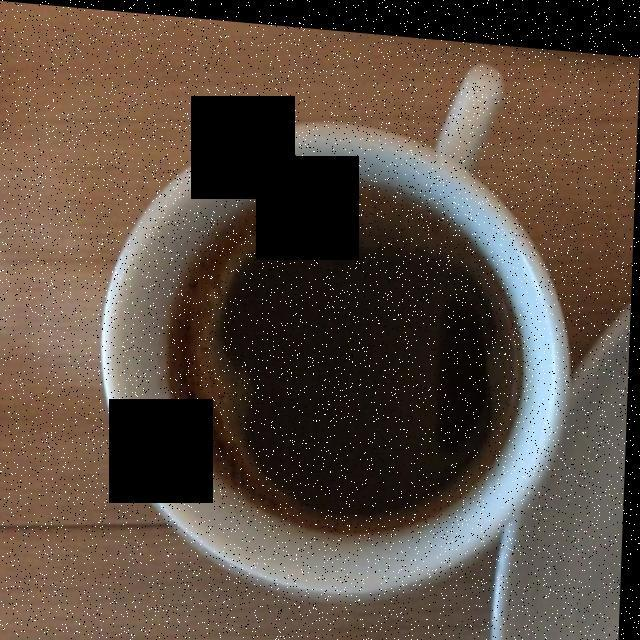coffee: (173, 174, 510, 523)
